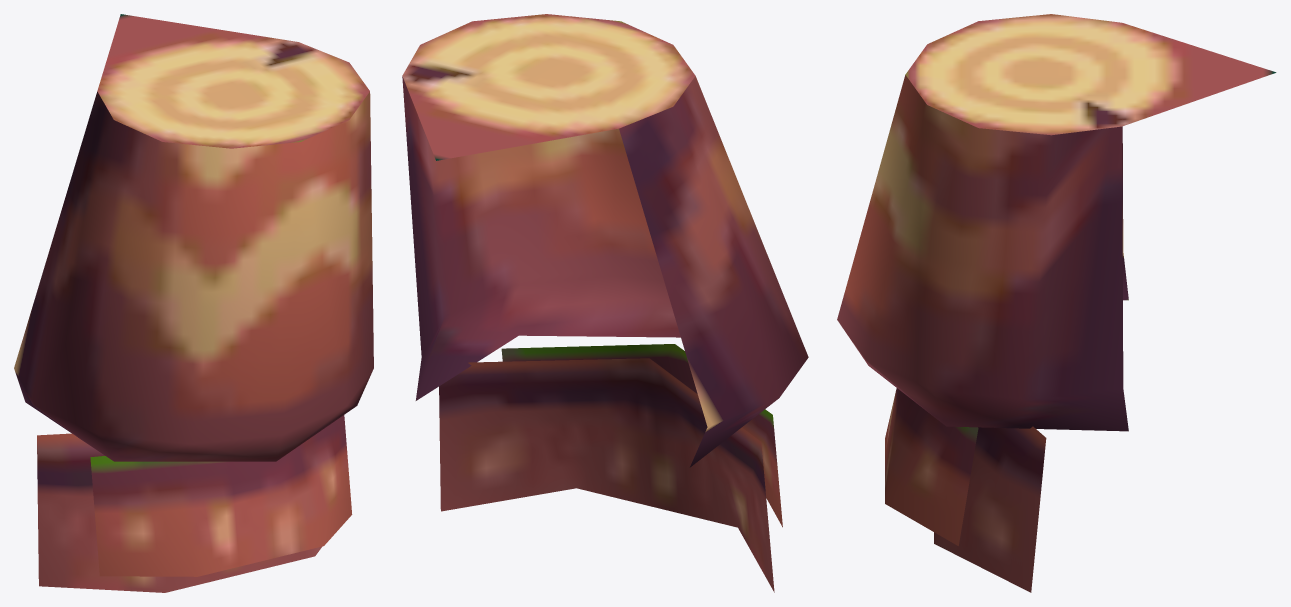
The model's file is fg_treeC_4_b.dae.
3 views of the same model, side by side, from view 1: azimuth 30°, elevation 25°; view 2: azimuth 150°, elevation 25°; view 3: azimuth 270°, elevation 25° (orthographic). The views are drawn at different scales.
Visible parts, largest first — view 1: fg_treeC_4_b; view 2: fg_treeC_4_b; view 3: fg_treeC_4_b.
Part boxes in pixels (<box>): fg_treeC_4_b: <box>14,14,373,592</box>; fg_treeC_4_b: <box>402,14,808,592</box>; fg_treeC_4_b: <box>837,14,1276,592</box>.
Size of the model in its own units: 20.72 by 26.82 by 23.1.
Materials: 1 (1 with a texture image).
